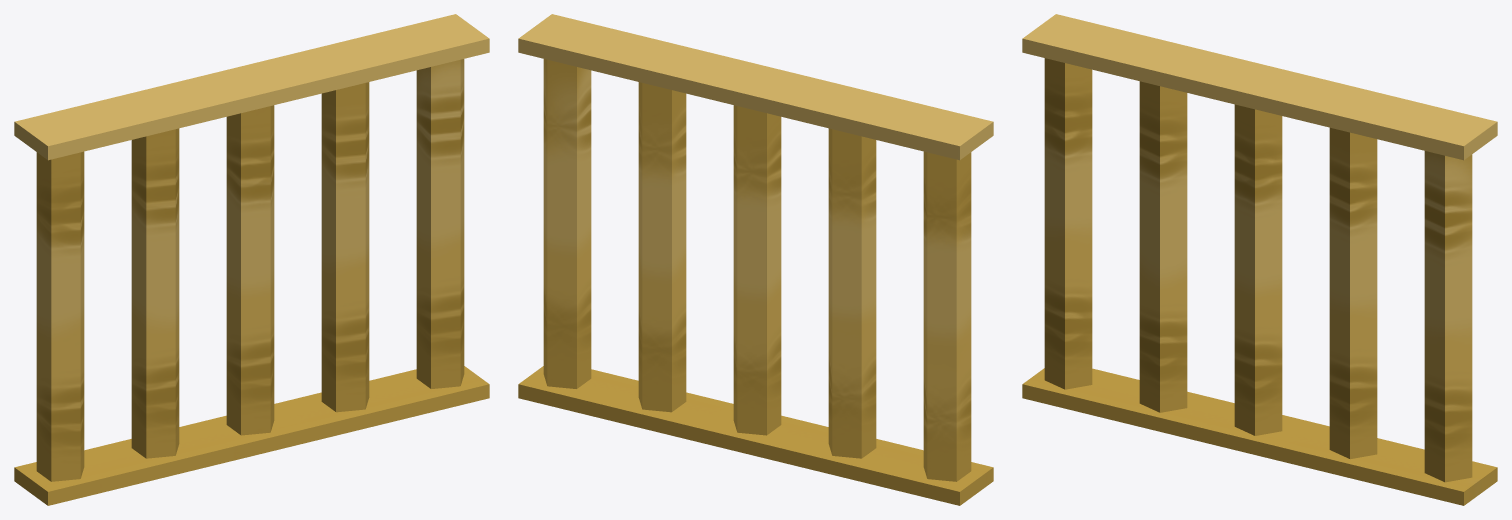
The model's file is Bloqueo-Maya.fbx.
3 views of the same model, side by side, from view 1: azimuth 30°, elevation 25°; view 2: azimuth 150°, elevation 25°; view 3: azimuth 330°, elevation 25° (orthographic).
Visible parts, largest first — view 1: pCylinder6; view 2: pCylinder6; view 3: pCylinder6.
Part boxes in pixels (x1,y1,x2,y2): pCylinder6: [14, 14, 489, 505]; pCylinder6: [518, 14, 993, 505]; pCylinder6: [1022, 14, 1497, 505].
Size of the model in its own units: 4.85 by 3.78 by 0.6398.
